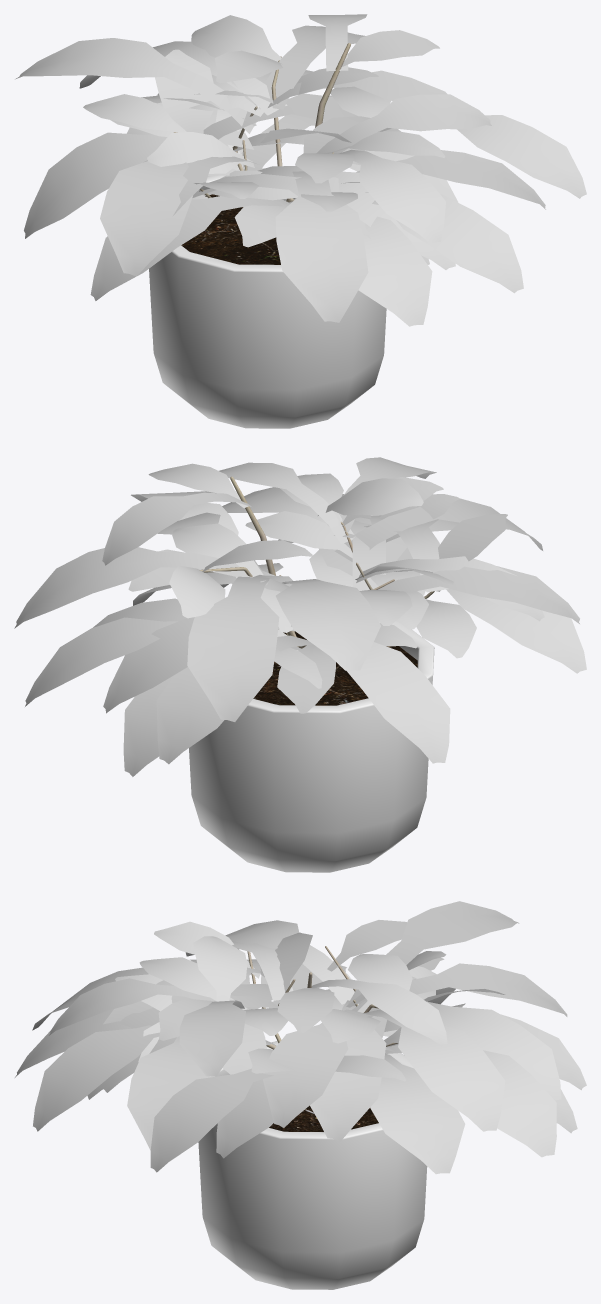
The model's file is Plants_Pots_2.fbx.
3 views of the same model, one above another, from view 1: azimuth 30°, elevation 25°; view 2: azimuth 150°, elevation 25°; view 3: azimuth 270°, elevation 25° (orthographic). The views are drawn at different scales.
Visible parts, largest first — view 1: Cylinder.021; view 2: Cylinder.021; view 3: Cylinder.021.
Part boxes in pixels (left/top/right/bottom): Cylinder.021: left=15, top=14, right=586, bottom=428; Cylinder.021: left=14, top=457, right=586, bottom=872; Cylinder.021: left=15, top=901, right=586, bottom=1289.
Size of the model in its own units: 108 by 76.67 by 121.
